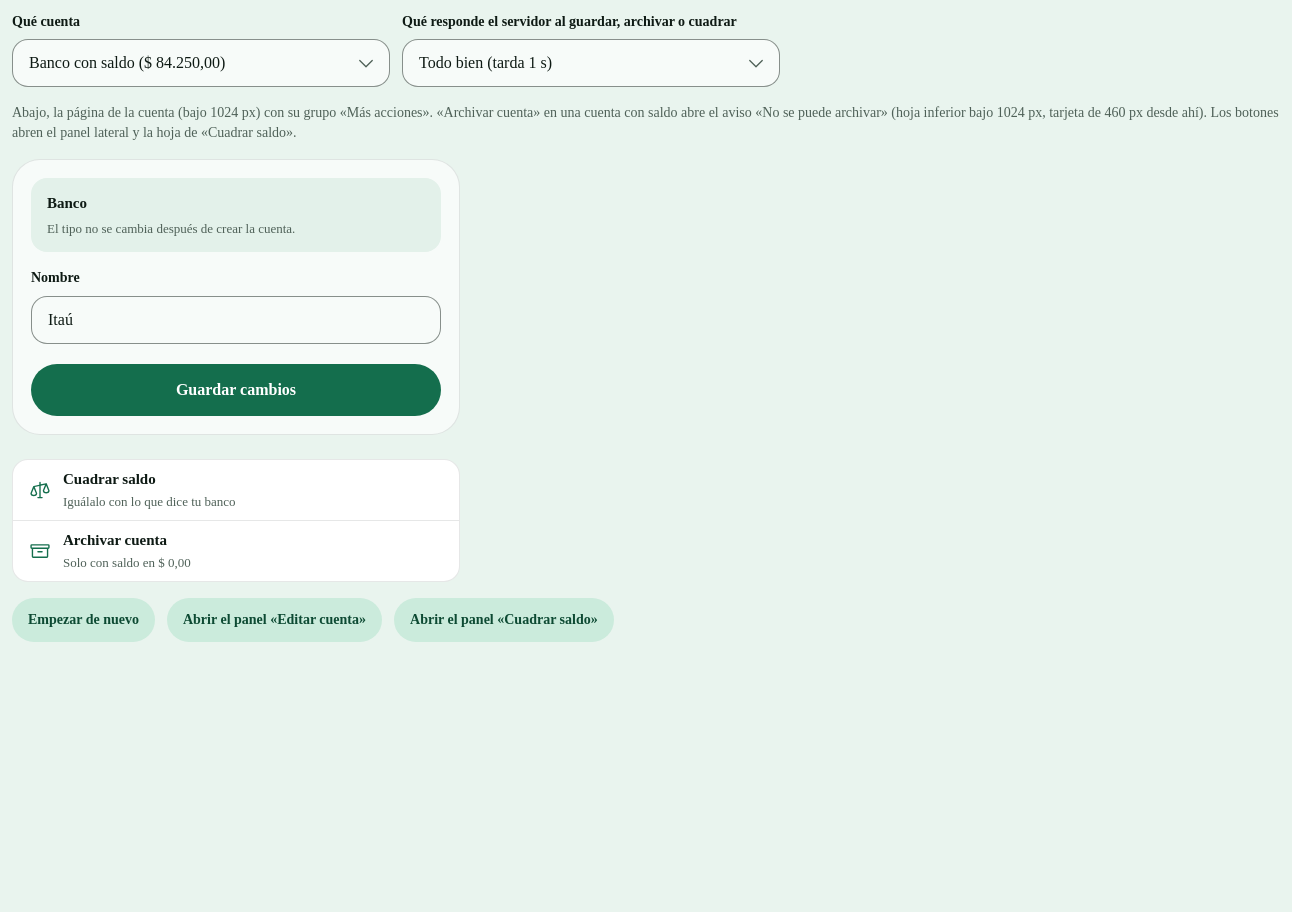
Test: AccountEditDemo › marks the name with the 422 outcome
The width and height of the screenshot is (1292, 912).
Select "422: marca el nombre" in the dropdown labelled "Qué responde el servidor al guardar, archivar o cuadrar" at [591, 63], box [402, 39, 780, 87]
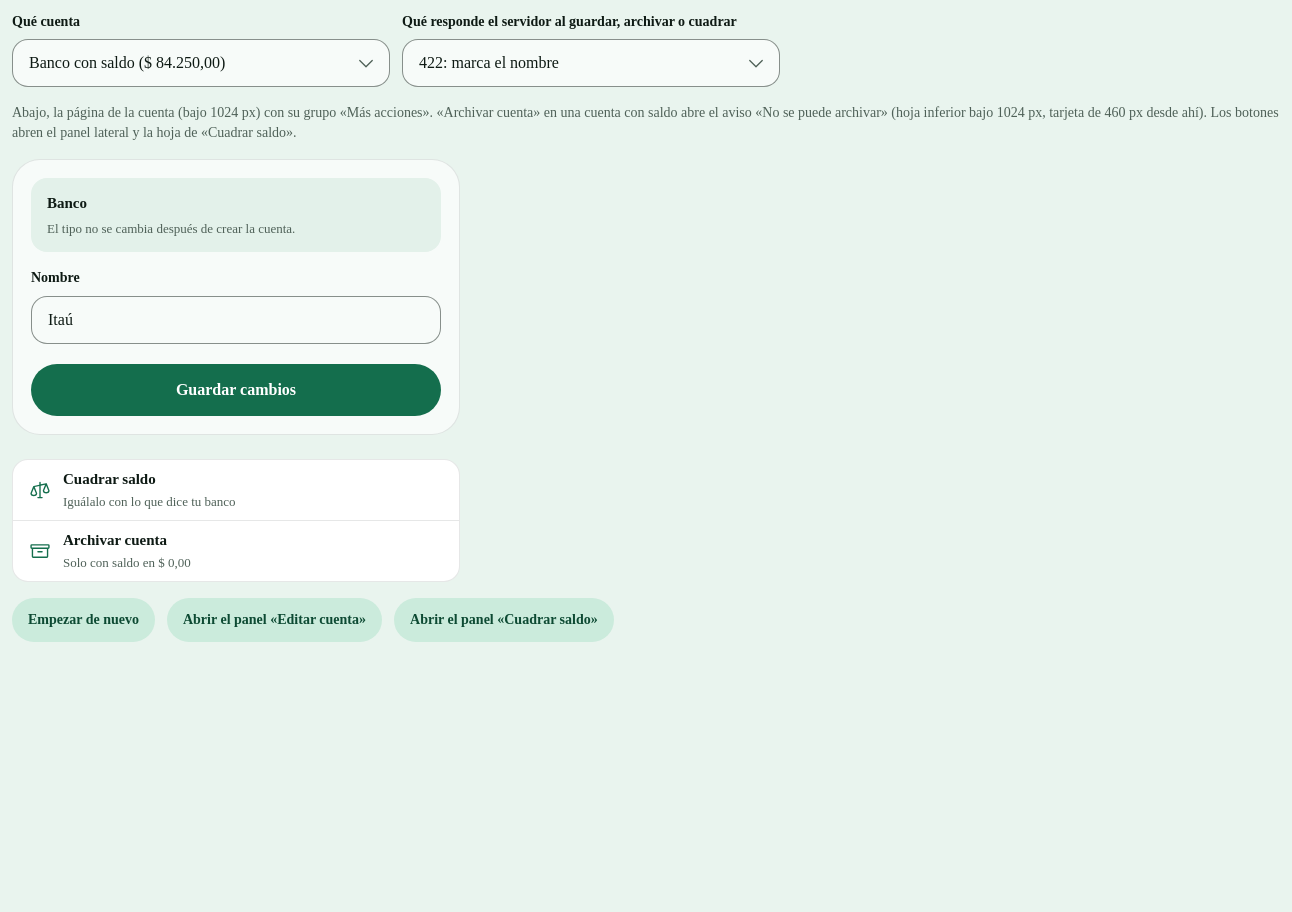
Replace the text in the field labelled "Nombre" with "Otro" at [236, 320], box [31, 296, 441, 344]
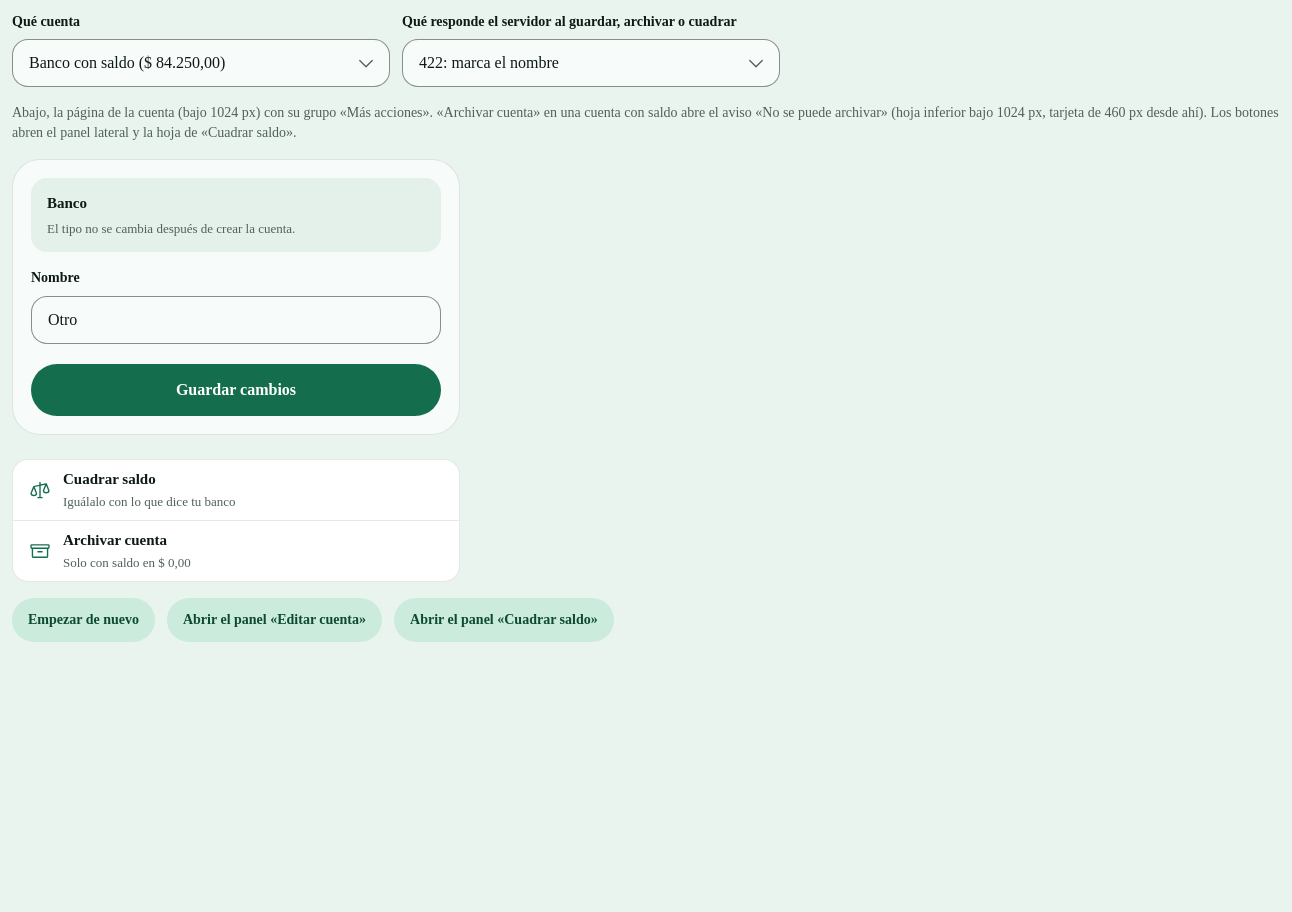
Click the button "Guardar cambios" at [236, 390], box [31, 364, 441, 416]
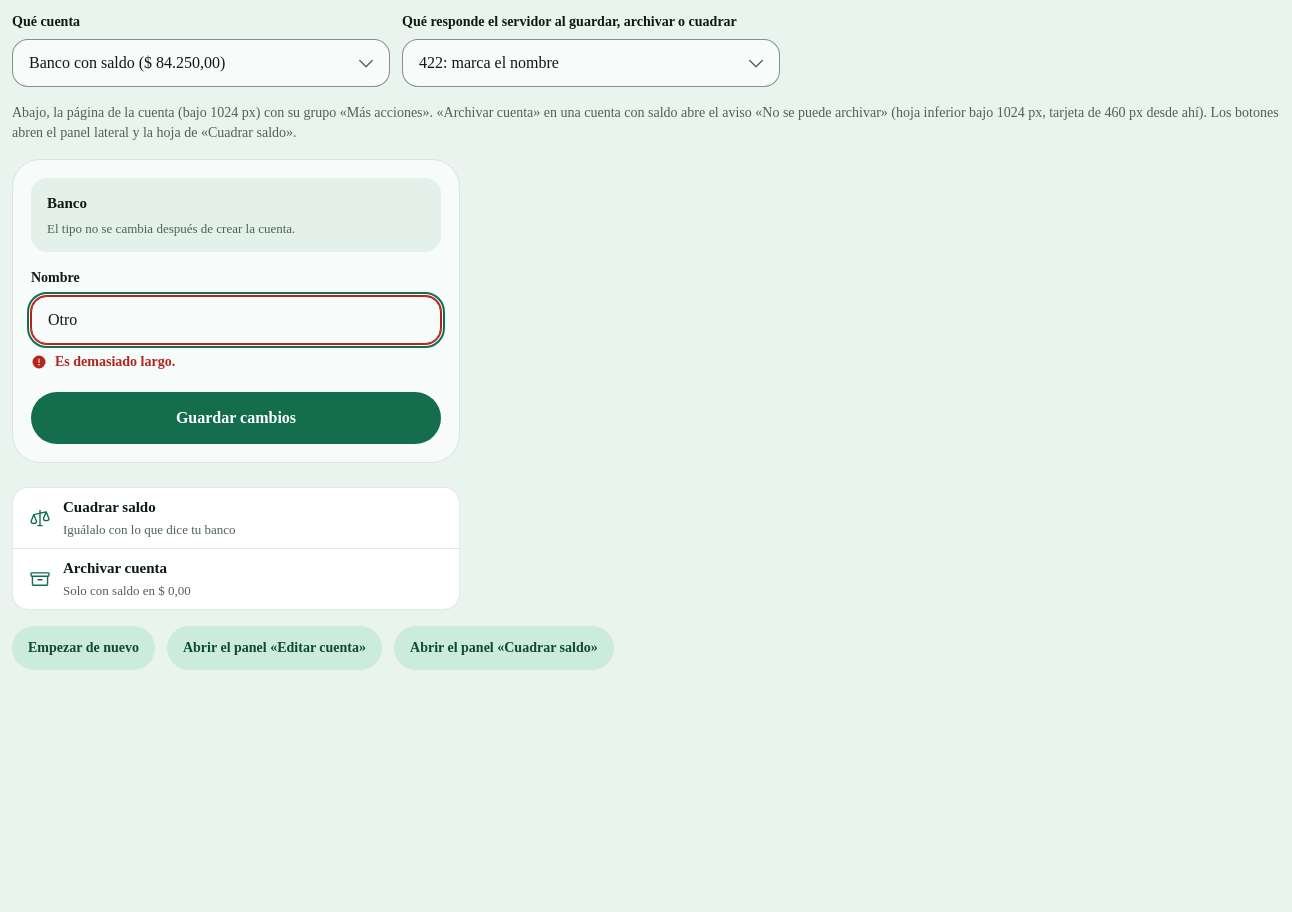
Check: the text "Es demasiado largo." is shown, box [55, 352, 175, 372]
